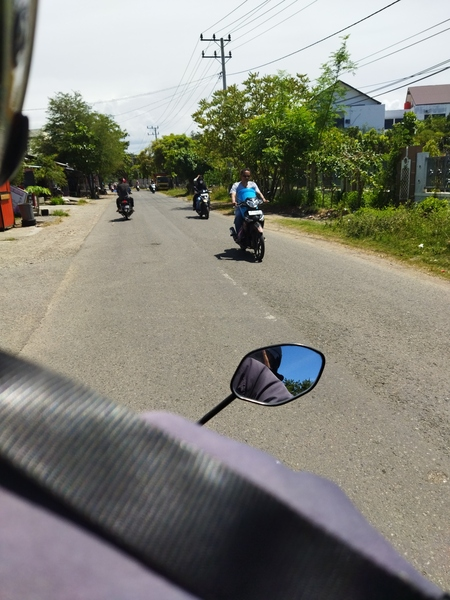motorcycle: (229, 195, 274, 264), (189, 188, 214, 222), (113, 192, 139, 223)
person: (229, 167, 266, 240)
